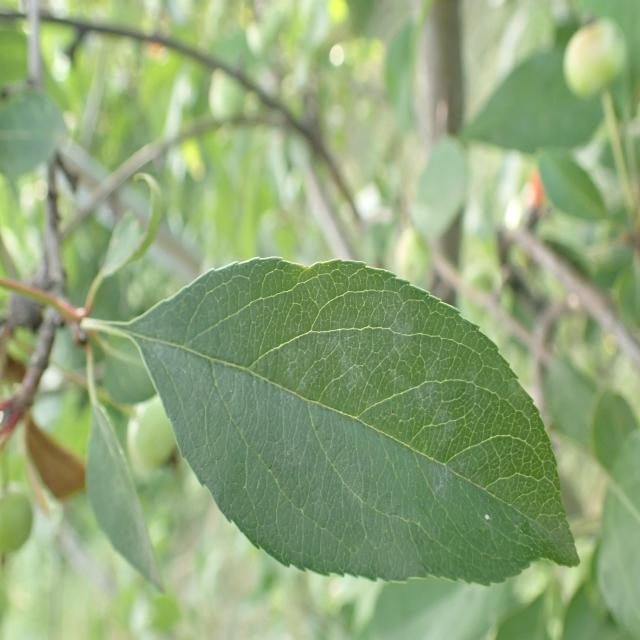Powdery_mildew: (135, 242, 582, 600)
